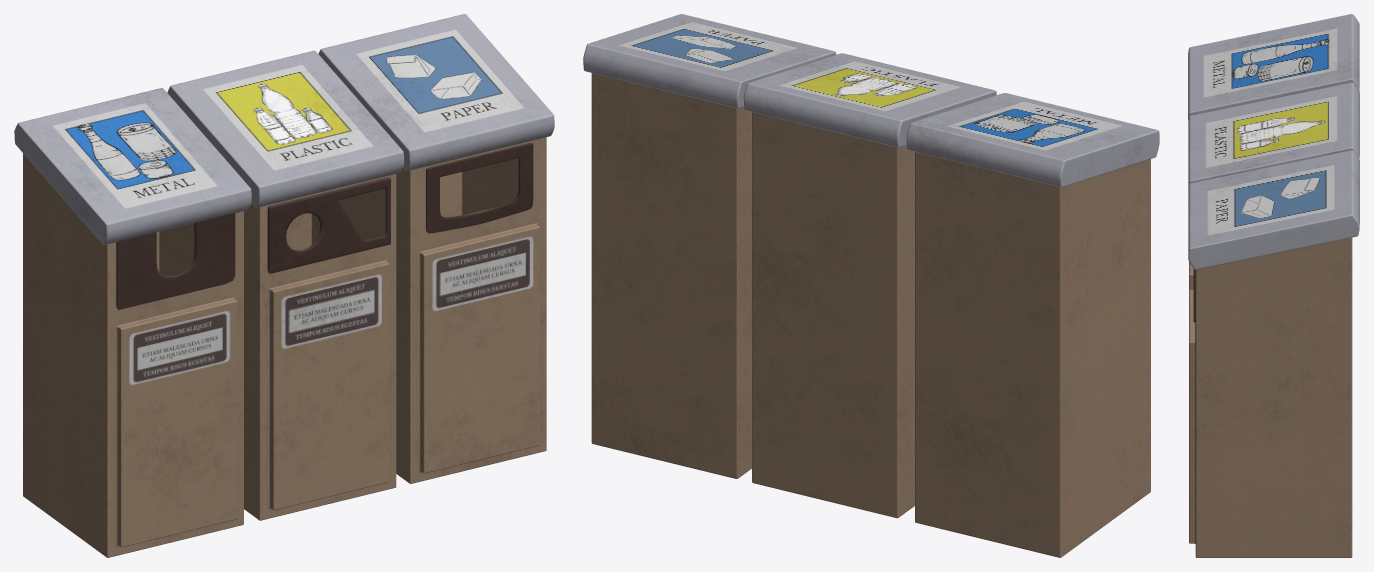
File: lixeira_reciclavel.fbx
3 renders of one model, left to right at view 1: azimuth 30°, elevation 25°; view 2: azimuth 150°, elevation 25°; view 3: azimuth 270°, elevation 25°, orthographic. The views are drawn at different scales.
Parts seen in each view (by area): view 1: FG Trash Boxes.Shape; view 2: FG Trash Boxes.Shape; view 3: FG Trash Boxes.Shape.
Boxes of the visible parts, x1,y1,x2,y2 form: FG Trash Boxes.Shape: (14,14,554,557); FG Trash Boxes.Shape: (583,14,1159,557); FG Trash Boxes.Shape: (1188,14,1359,557).
Bounding box in the file's own units: 108 × 86.1 × 38.85.
1 material, 1 textured.
